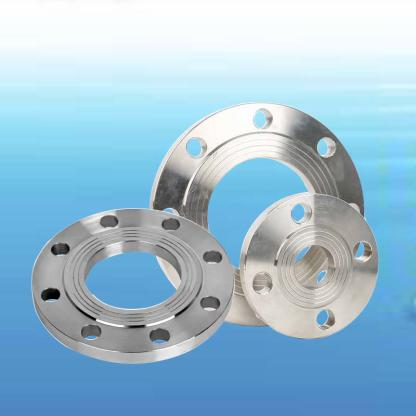FOD: (146, 99, 367, 333), (28, 204, 236, 365), (238, 186, 384, 342)
